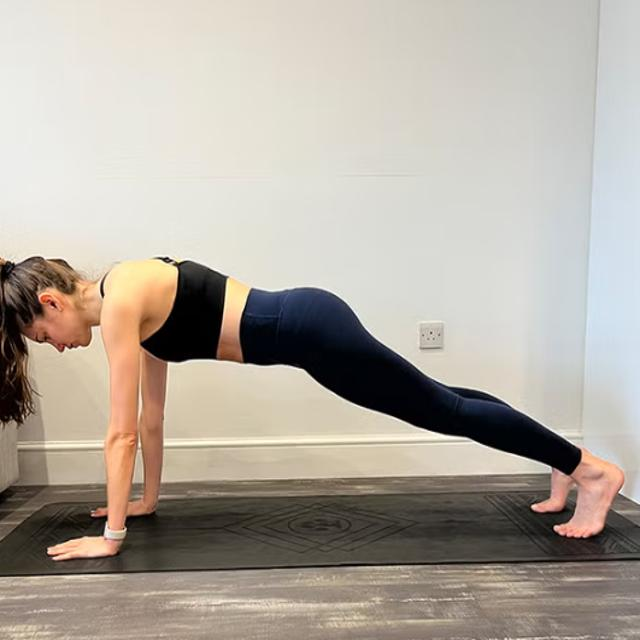Plank_Pose: (3, 234, 627, 561)
